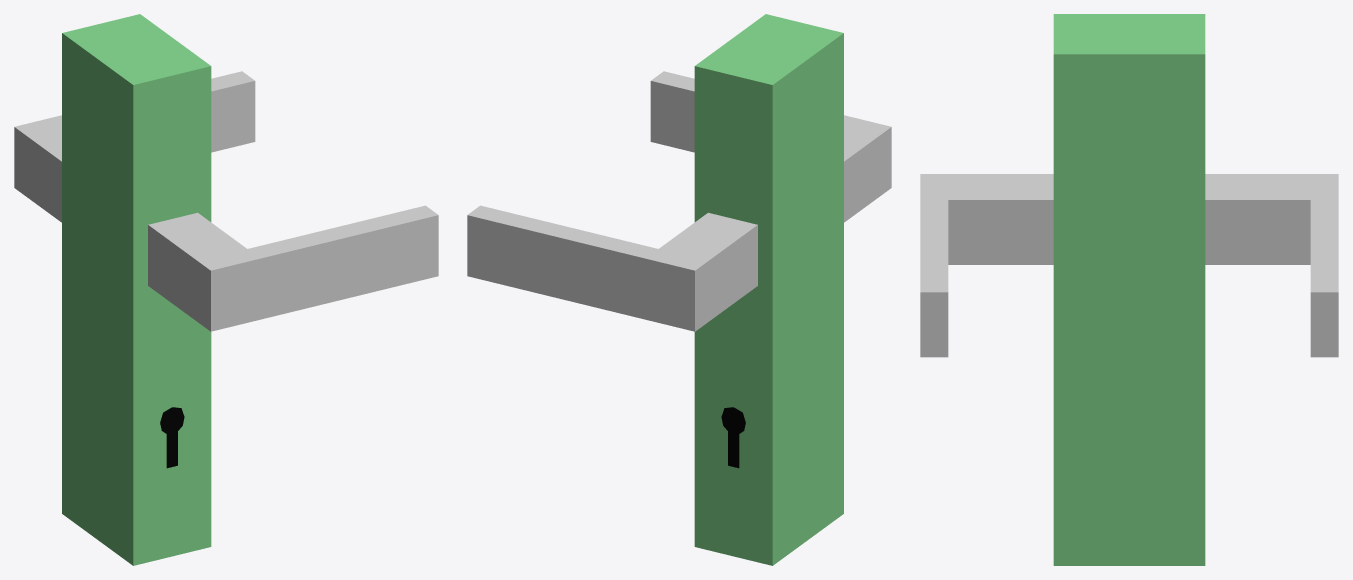
File: dvereServerovnaHandle.fbx
3 views of the same model, side by side, from view 1: azimuth 30°, elevation 25°; view 2: azimuth 150°, elevation 25°; view 3: azimuth 270°, elevation 25° (orthographic). The views are drawn at different scales.
Parts seen in each view (by area): view 1: ServerovnaDvere.Zamek.Base, ServerovnaDvere.Zamek.Klika; view 2: ServerovnaDvere.Zamek.Base, ServerovnaDvere.Zamek.Klika; view 3: ServerovnaDvere.Zamek.Base, ServerovnaDvere.Zamek.Klika.
Boxes of the visible parts, x1=… form: ServerovnaDvere.Zamek.Base: x1=62, y1=14, x2=211, y2=565; ServerovnaDvere.Zamek.Klika: x1=14, y1=71, x2=438, y2=331; ServerovnaDvere.Zamek.Base: x1=694, y1=14, x2=843, y2=565; ServerovnaDvere.Zamek.Klika: x1=467, y1=71, x2=891, y2=331; ServerovnaDvere.Zamek.Base: x1=1053, y1=14, x2=1205, y2=565; ServerovnaDvere.Zamek.Klika: x1=920, y1=174, x2=1338, y2=357.
Bounding box in the file's own units: 12.48 × 23.62 × 17.5.
